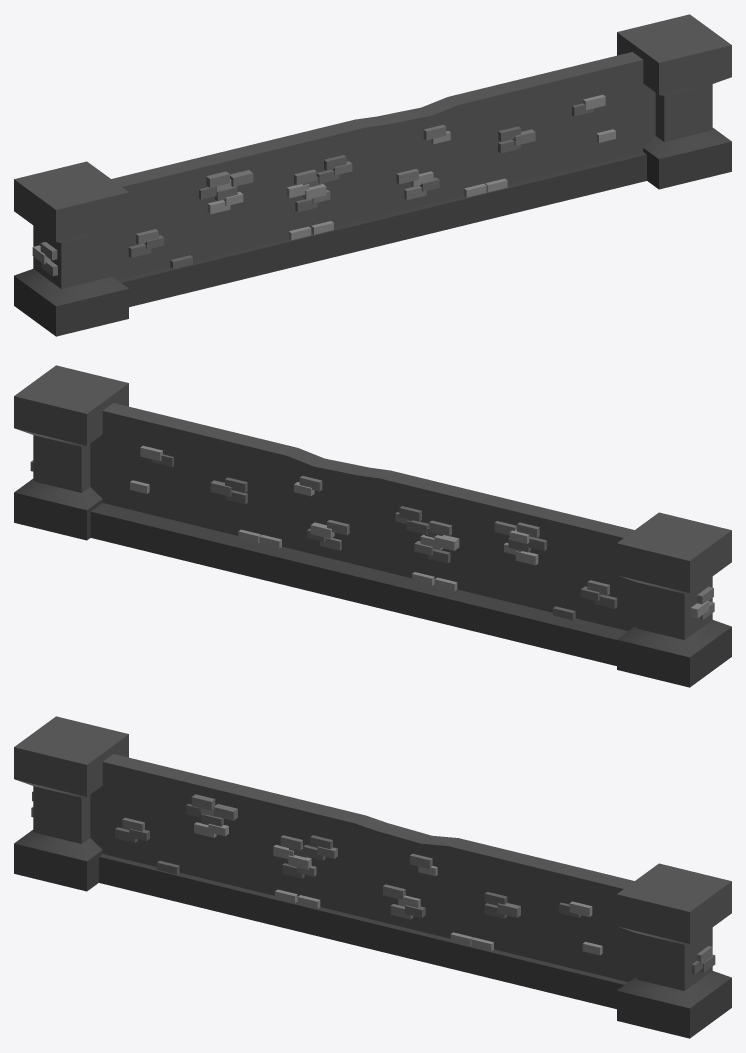
File: Wall1.fbx
3 renders of one model, top to bottom at view 1: azimuth 30°, elevation 25°; view 2: azimuth 150°, elevation 25°; view 3: azimuth 330°, elevation 25°, orthographic.
Visible parts, largest first — view 1: Wall1; view 2: Wall1; view 3: Wall1.
Part boxes in pixels (x1,y1,x2,y2): Wall1: (14, 14, 731, 336); Wall1: (14, 365, 731, 687); Wall1: (14, 716, 731, 1038).
Size of the model in its own units: 35.88 by 6.42 by 3.88.
